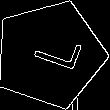L_W: (20, 31, 80, 78)
